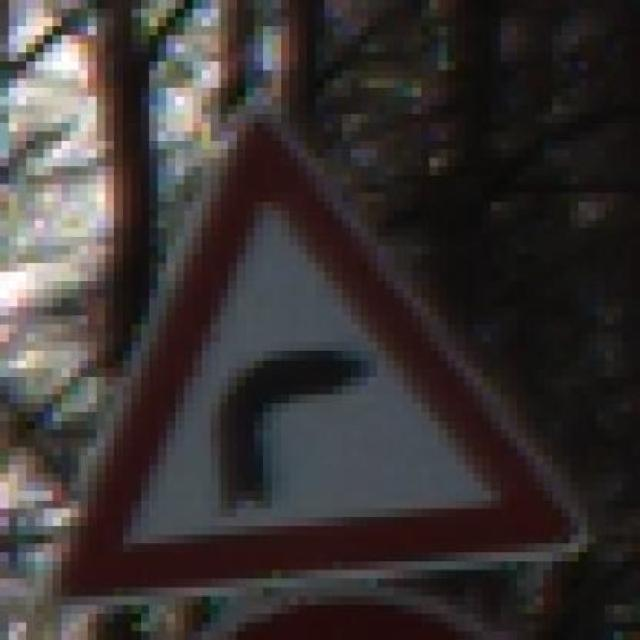Dangerous Rright Curve Ahead: (39, 107, 584, 598)
